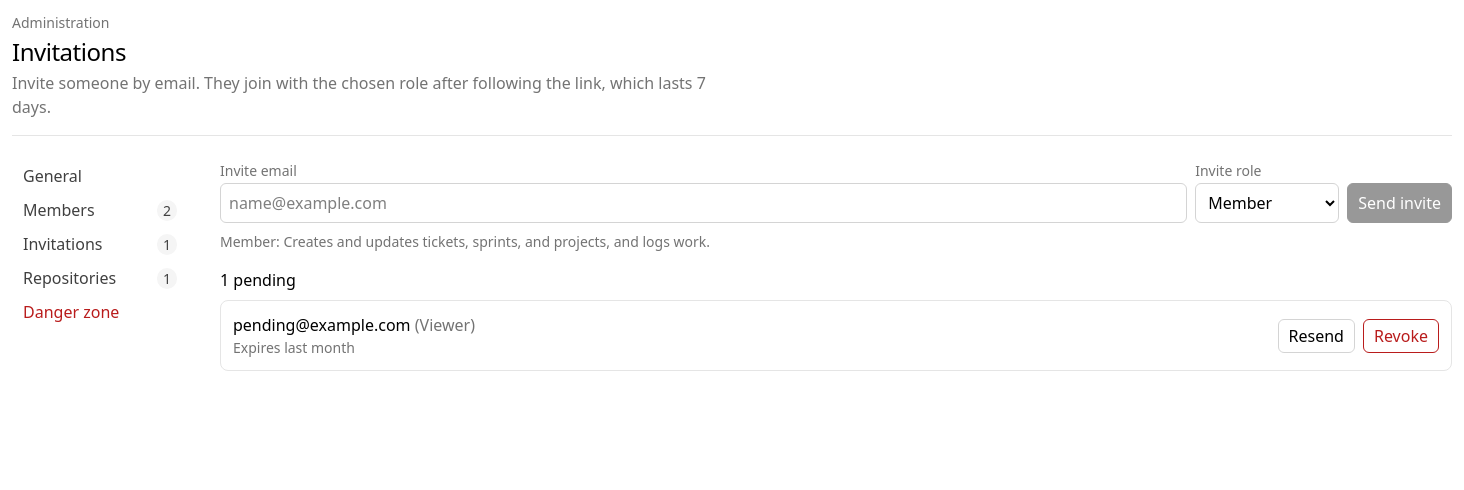
Scenario: Admin › invites by email
Step 1. Type "new-user@example.com" into the field labelled "Invite email" → point(704, 203), box 220,183 -> 1187,223
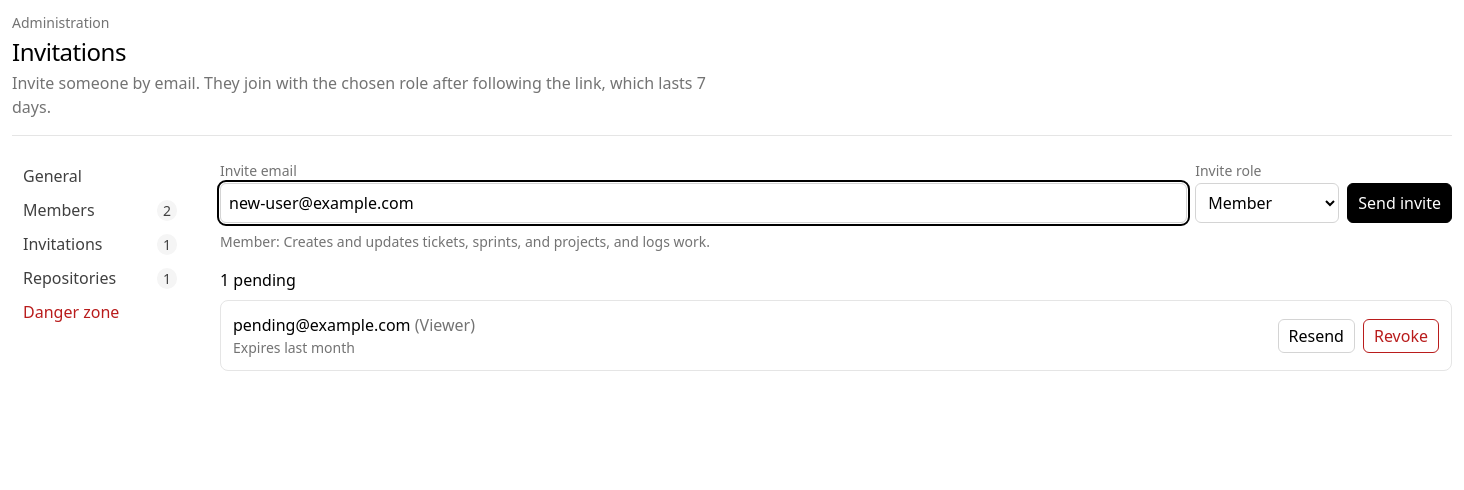
Step 2. Select "Viewer" in the dropdown labelled "Invite role" → point(1267, 203), box 1195,183 -> 1339,223
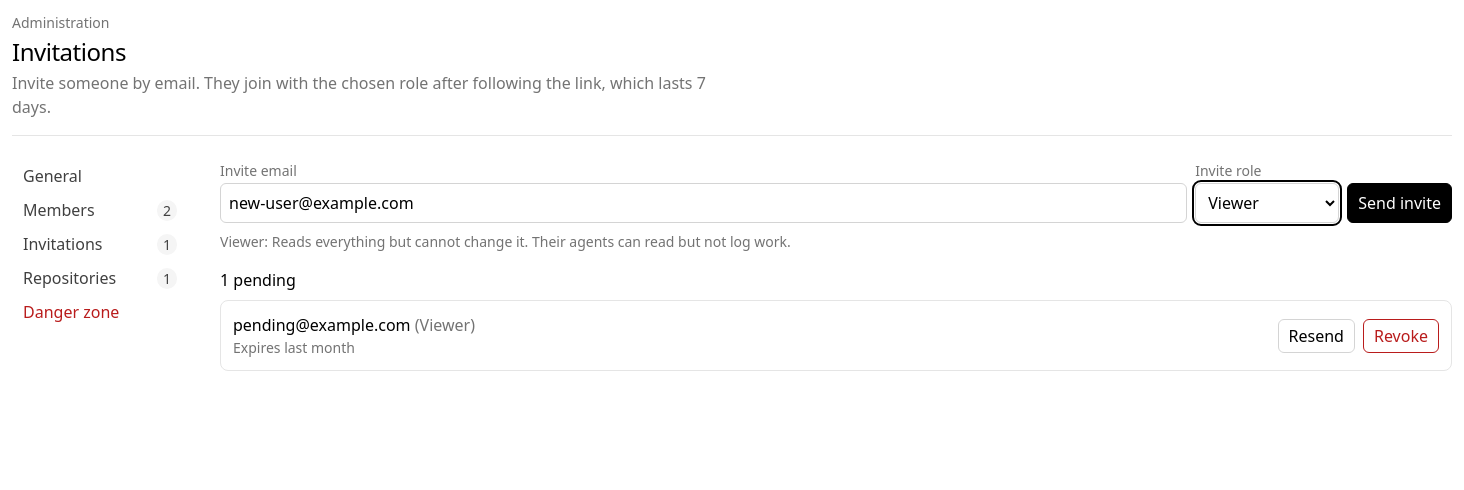
Step 3. Click the button "Send invite" → point(1400, 203), box 1347,183 -> 1452,223
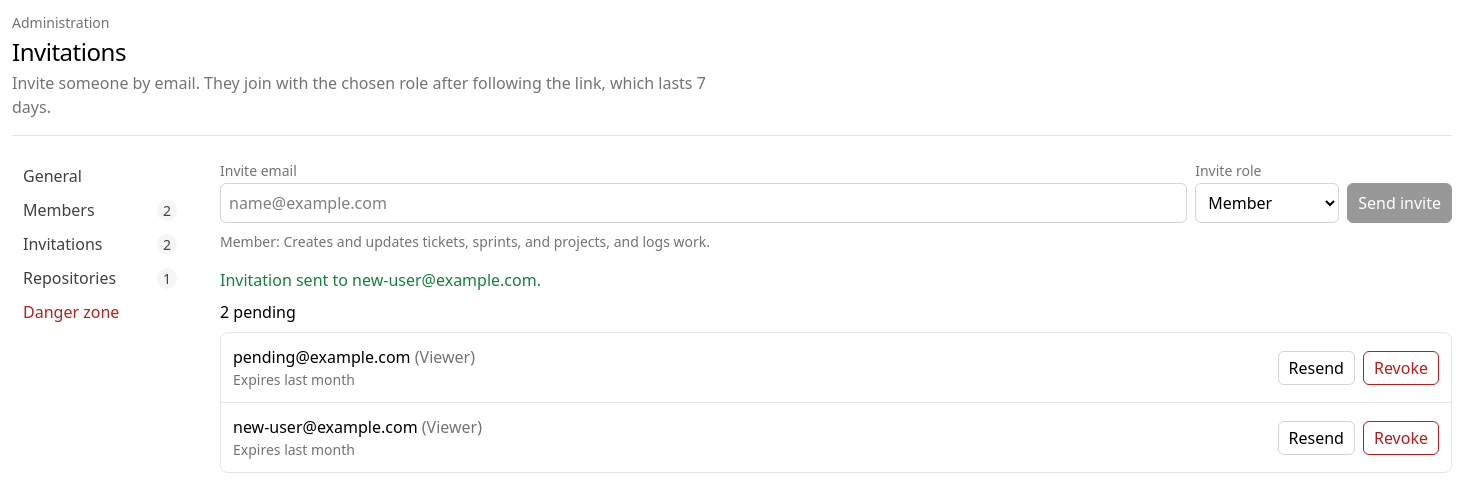
Result: the text "new-user@example.com" is shown at 233,416 -> 418,438
